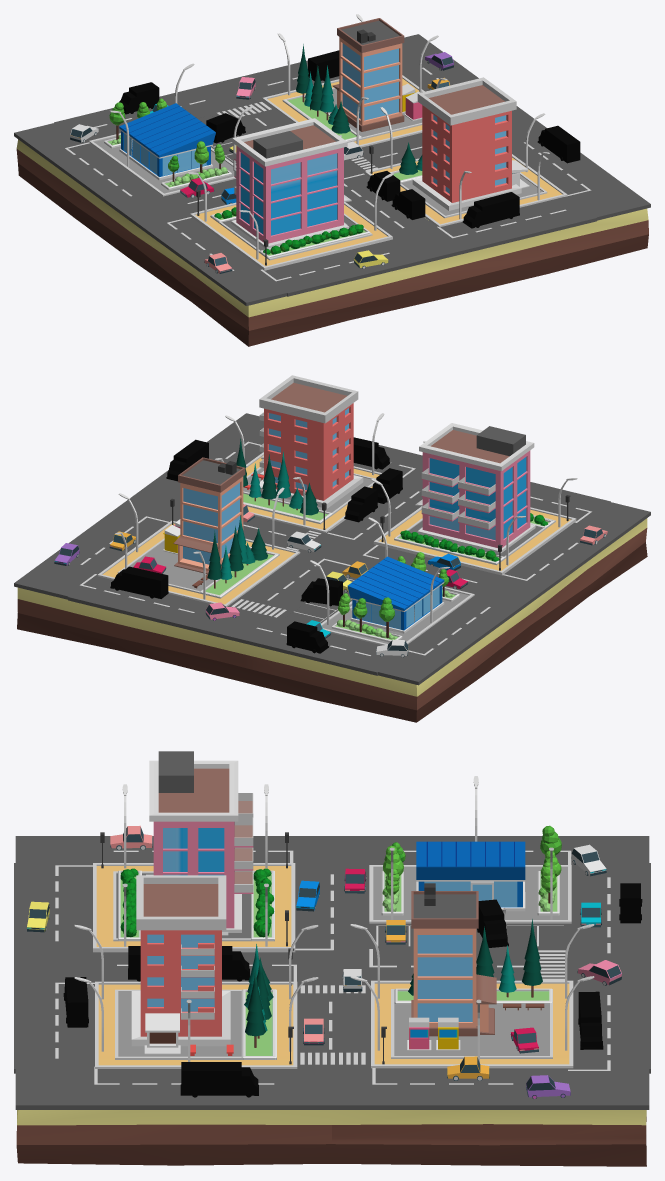
The model's file is city.obj.
3 renders of one model, top to bottom at view 1: azimuth 30°, elevation 25°; view 2: azimuth 150°, elevation 25°; view 3: azimuth 270°, elevation 25°, orthographic. The views are drawn at different scales.
Visible parts, largest first — view 1: city; view 2: city; view 3: city.
Part boxes in pixels (x1,y1,x2,y2): city: [14, 14, 650, 346]; city: [14, 375, 650, 722]; city: [14, 751, 650, 1166].
Size of the model in its own units: 1096 by 372 by 1096.
8 materials, 1 textured.
